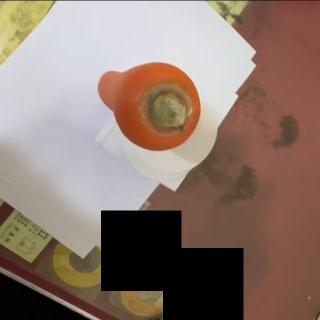carrot: (96, 61, 202, 151)
